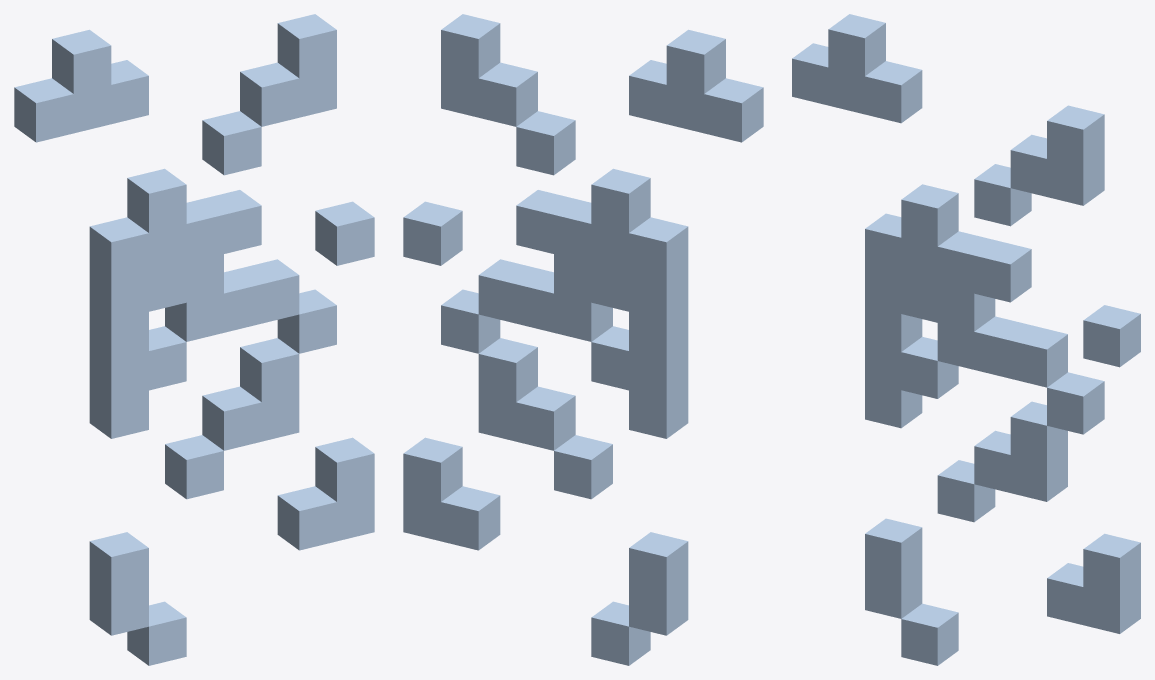
The model's file is Fight_109_2_11_fx.obj.
3 views of the same model, side by side, from view 1: azimuth 30°, elevation 25°; view 2: azimuth 150°, elevation 25°; view 3: azimuth 330°, elevation 25° (orthographic). The views are drawn at different scales.
Size of the model in its own units: 0.9 by 1.6 by 0.1.
1 material, 1 textured.
